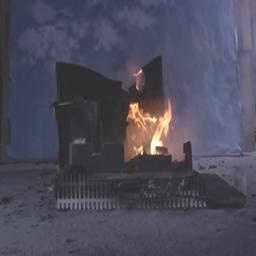fire: (116, 88, 173, 162)
